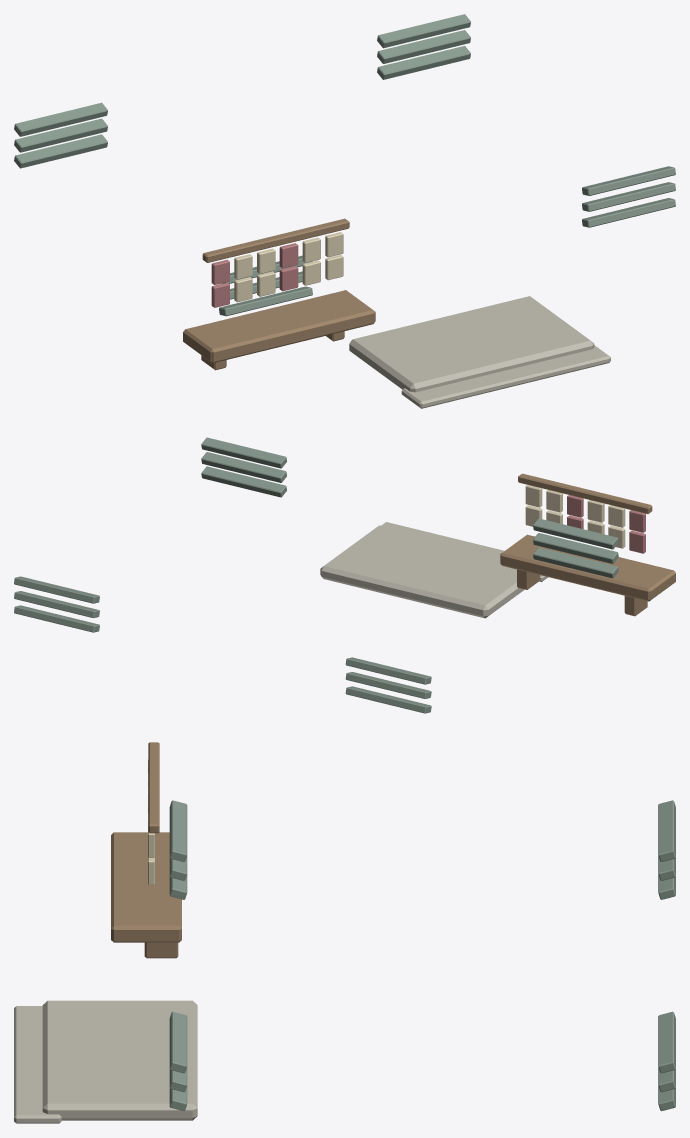
Rendered from retained-house-a-details.glb.
3 renders of one model, top to bottom at view 1: azimuth 30°, elevation 25°; view 2: azimuth 150°, elevation 25°; view 3: azimuth 270°, elevation 25°, orthographic. The views are drawn at different scales.
Parts seen in each view (by area): view 1: retained-house-a-details; view 2: retained-house-a-details; view 3: retained-house-a-details.
Part boxes in pixels (left/top/right/bottom): retained-house-a-details: left=14, top=14, right=675, bottom=408; retained-house-a-details: left=14, top=437, right=675, bottom=713; retained-house-a-details: left=14, top=742, right=675, bottom=1123.
Bounding box in the file's own units: 5.39 × 1.59 × 5.3.
